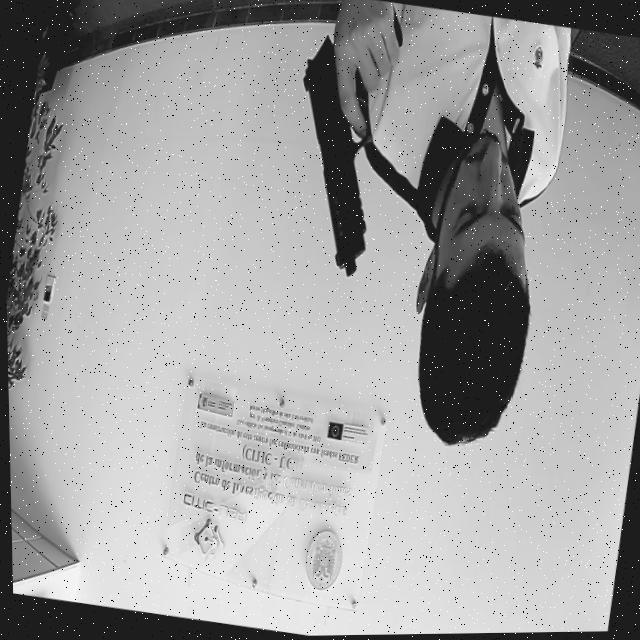pistol: (271, 29, 397, 282)
